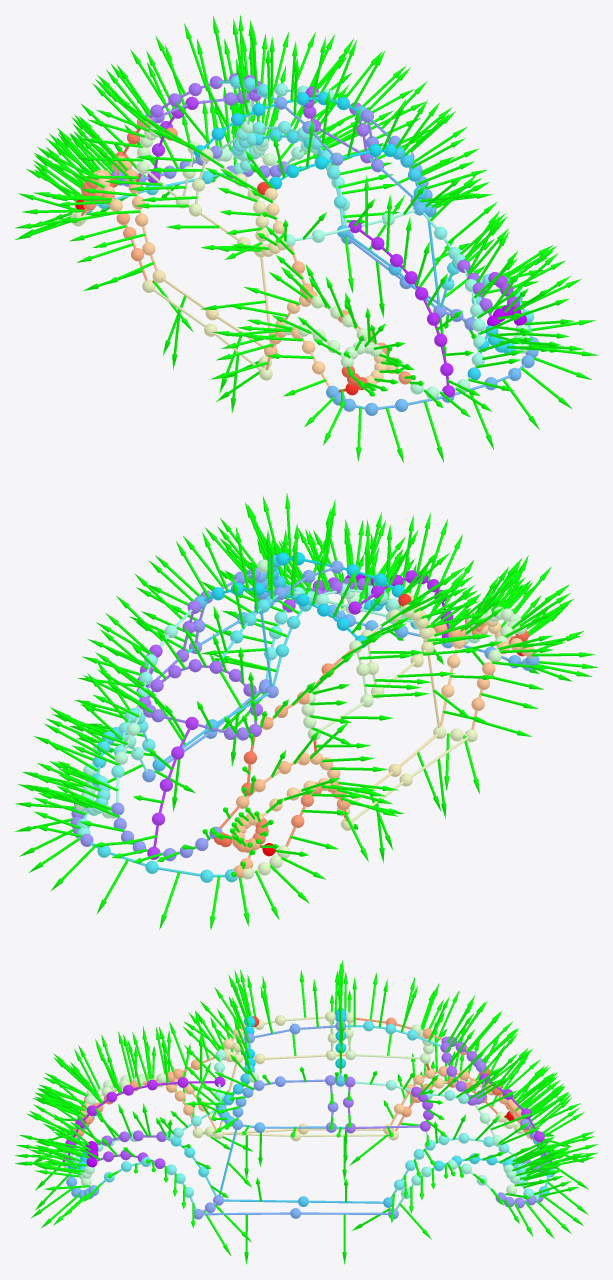
Rendered from flowsurf_beetle.gltf.
The picture shows the model from 3 angles, top to bottom: view 1: azimuth 30°, elevation 25°; view 2: azimuth 150°, elevation 25°; view 3: azimuth 270°, elevation 25°; orthographic projection. The views are drawn at different scales.
Bounding box in the file's own units: 0.559 × 0.4998 × 1.07.
